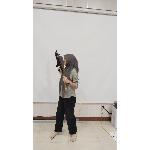Golok: (57, 54, 69, 92)
